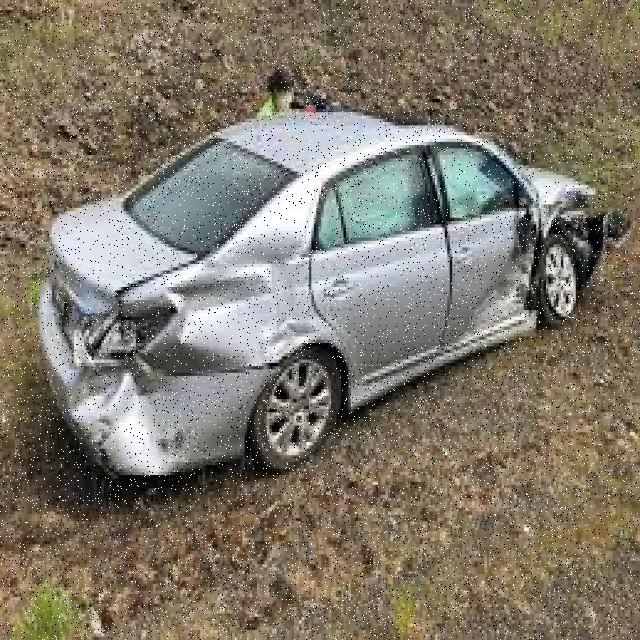Taillight-Damage: (50, 287, 200, 356)
doorouter-dent: (447, 218, 536, 346)
quaterpanel-dent: (173, 251, 312, 373)
rear-bumper-dent: (20, 350, 203, 486)
